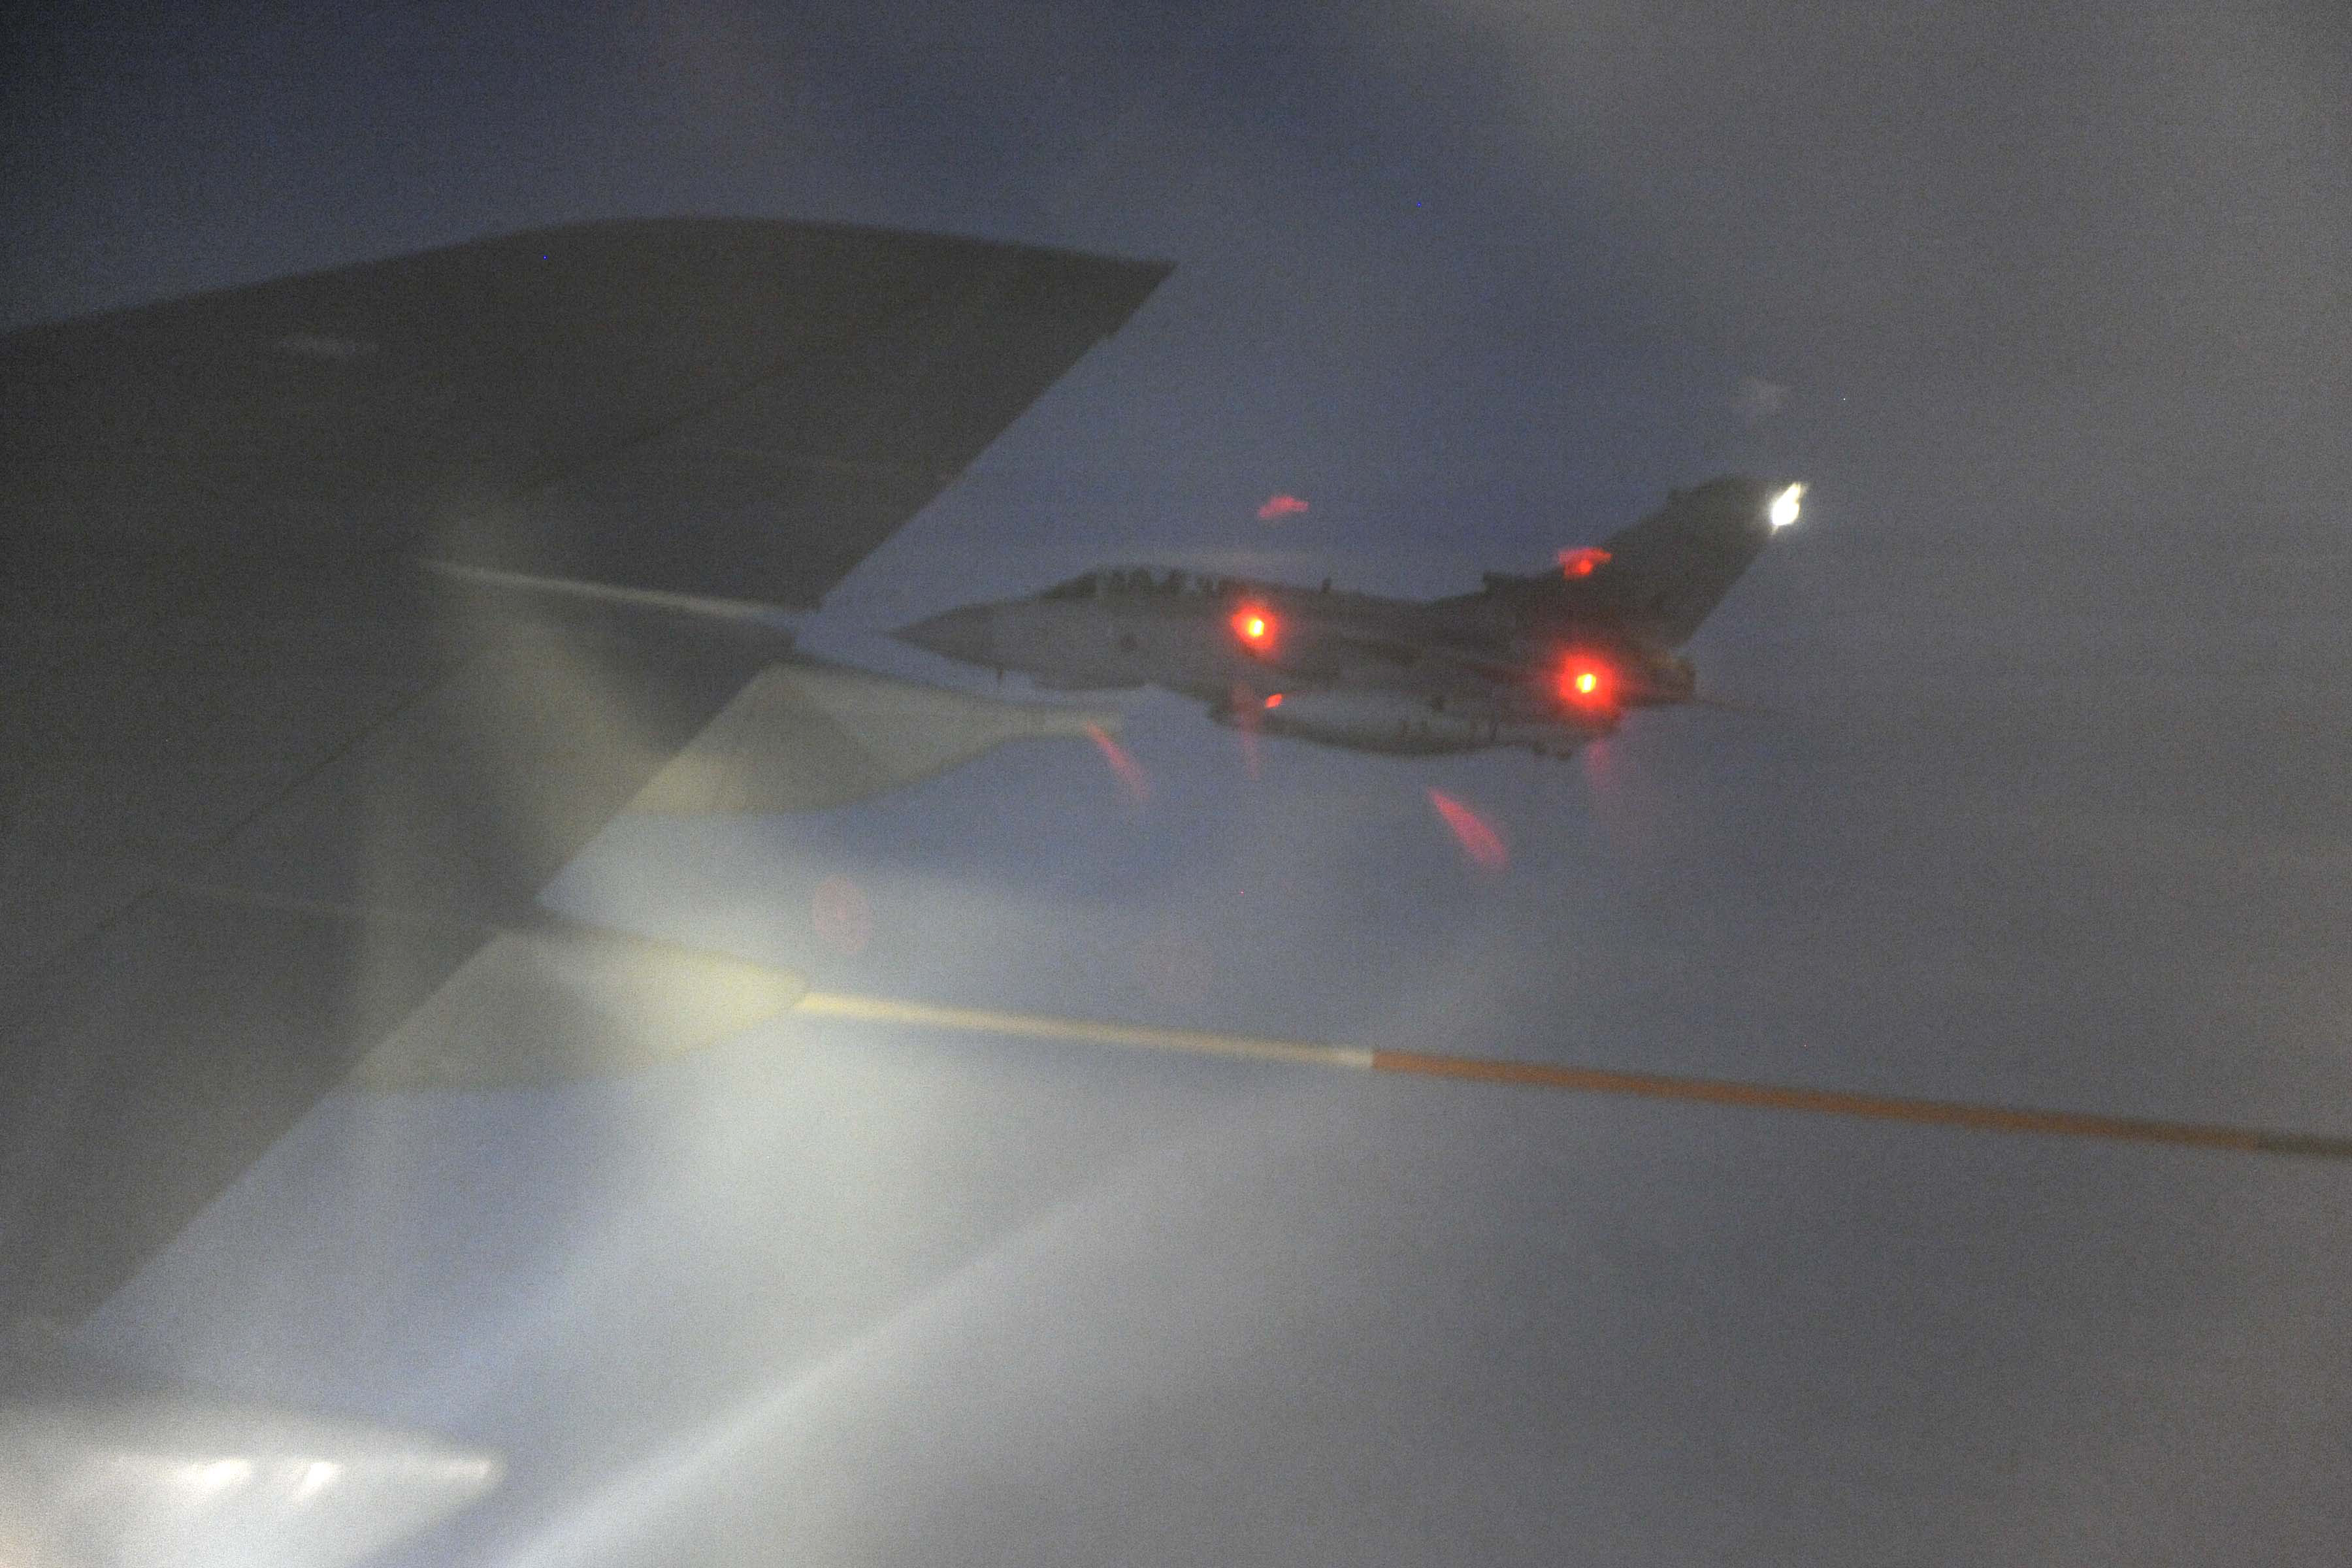Tornado: (871, 474, 1813, 761)
